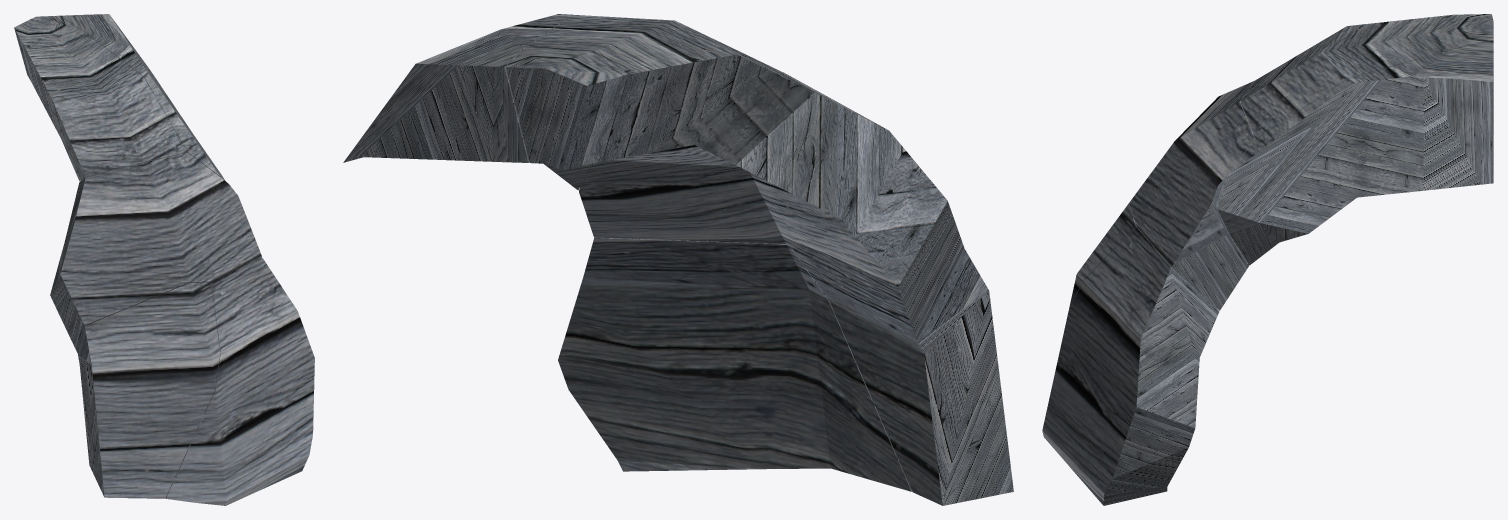
Rendered from Fracture007.dae.
The picture shows the model from 3 angles, left to right: view 1: azimuth 30°, elevation 25°; view 2: azimuth 150°, elevation 25°; view 3: azimuth 270°, elevation 25°; orthographic projection. The views are drawn at different scales.
Parts seen in each view (by area): view 1: Sphere_001_cell_047; view 2: Sphere_001_cell_047; view 3: Sphere_001_cell_047.
Part boxes in pixels (x1,y1,x2,y2): Sphere_001_cell_047: (14, 14, 314, 505); Sphere_001_cell_047: (343, 14, 1013, 505); Sphere_001_cell_047: (1042, 14, 1493, 505).
Bounding box in the file's own units: 0.8229 × 1.18 × 1.23.
